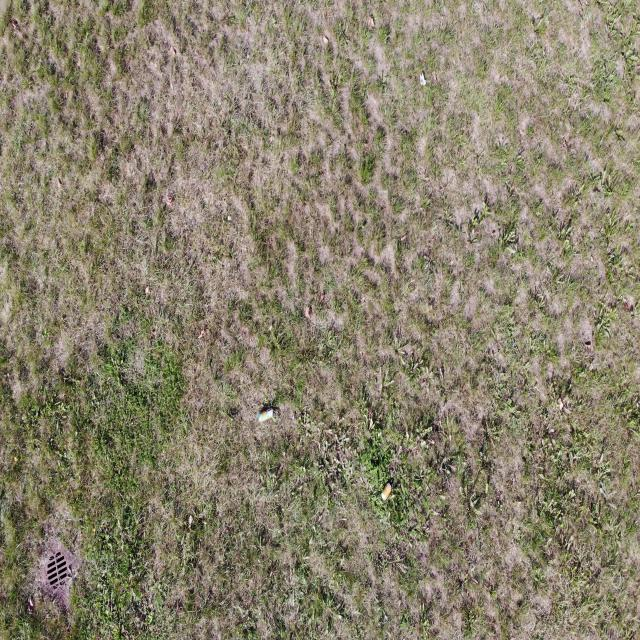rubbish: (258, 409, 274, 423), (382, 483, 392, 501)
